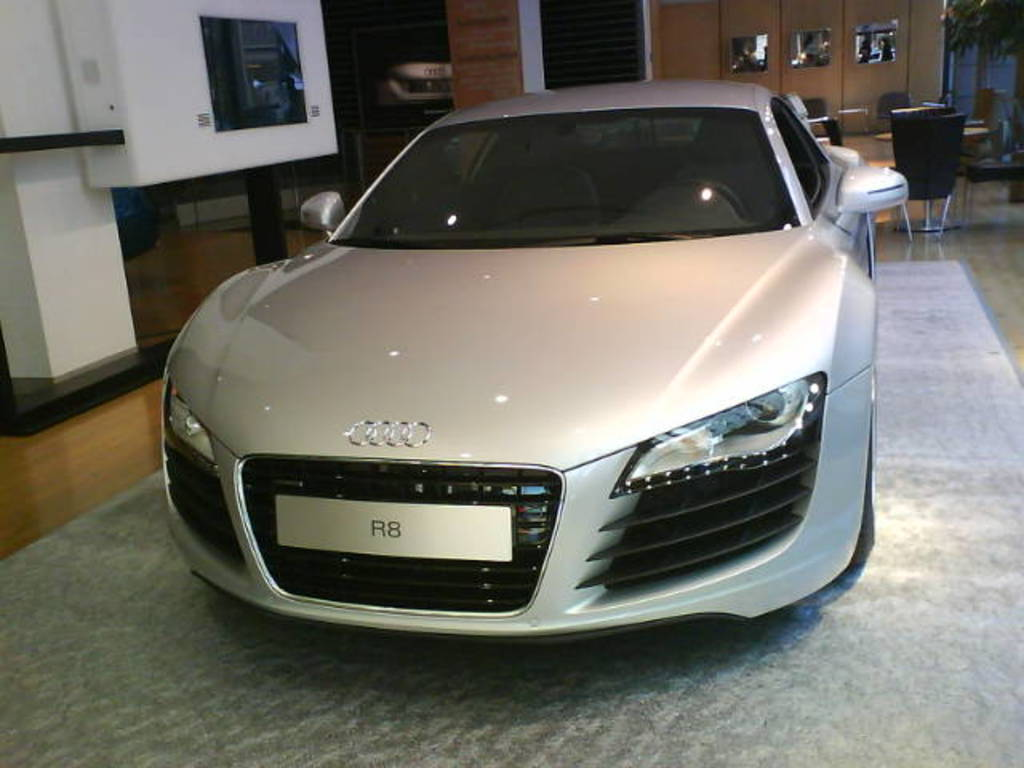Car: (156, 80, 908, 632)
